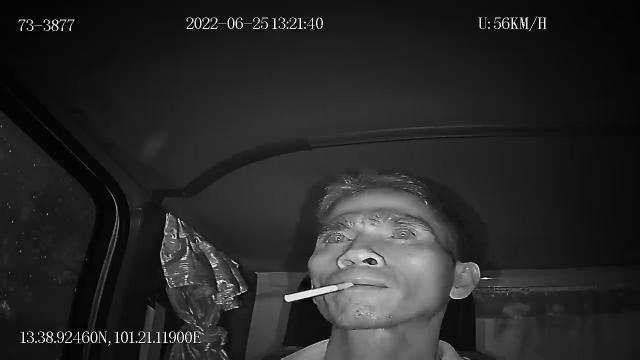SafeDriving: (382, 222, 422, 244), (316, 225, 354, 248)
Smoking: (284, 282, 352, 302)
